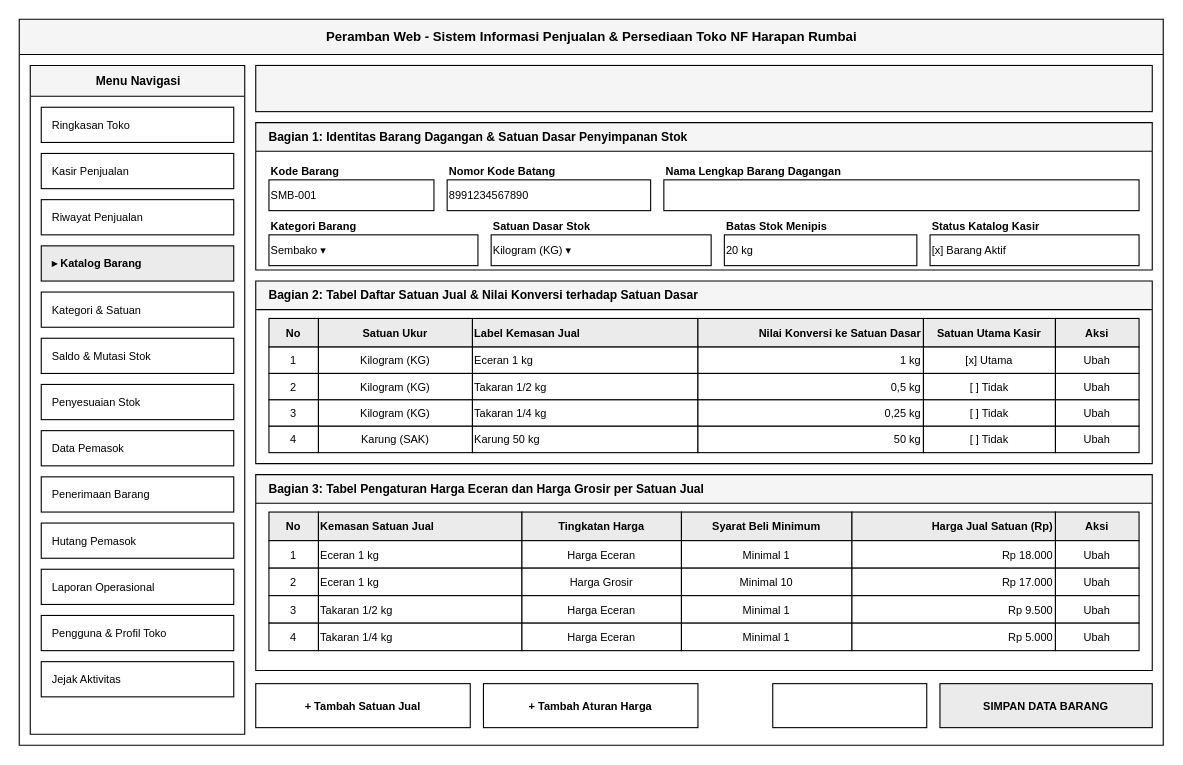
Image size: 1183x765. Some labels were removed from this diagram. The centre of each missing label's shape, as x and y in pixels:
"BATAL" belongs at point (849, 705).
"Formulir Pengelolaan Barang, Satuan Konversi, dan Tingkatan Harga" belongs at point (703, 88).
"Gula Pasir Putih Curah" belongs at point (901, 195).
